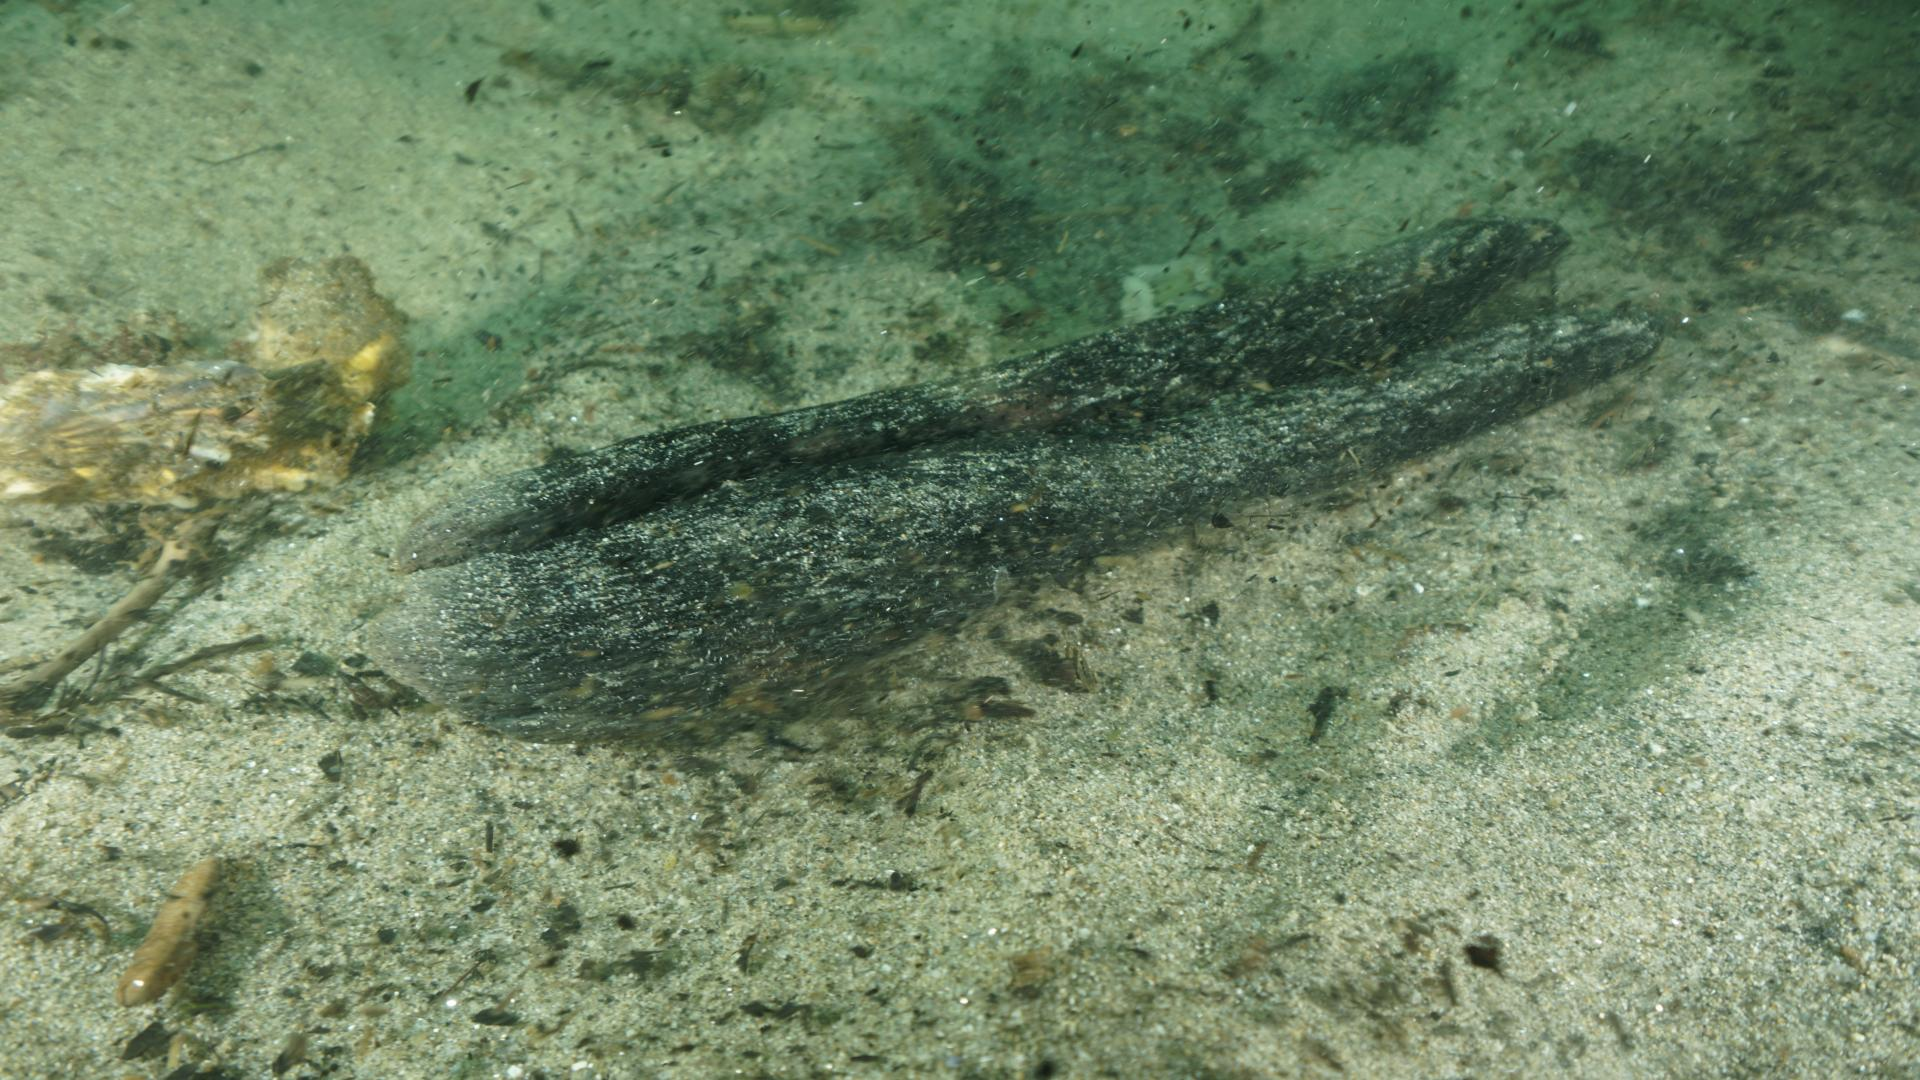wood: (347, 210, 1663, 738)
